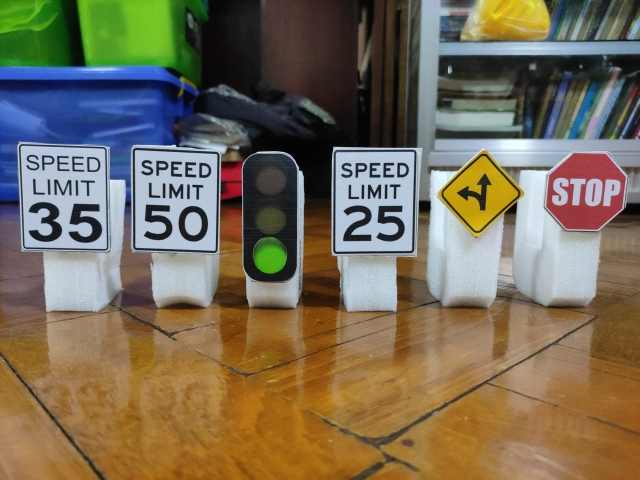Green Traffic Light: (242, 149, 300, 283)
Speed Limit 25: (332, 146, 418, 257)
Speed Limit 35: (16, 141, 112, 253)
Speed Limit 50: (131, 144, 221, 255)
Stop Sign: (545, 151, 629, 233)
Straight Or Left Sign: (439, 150, 522, 235)
